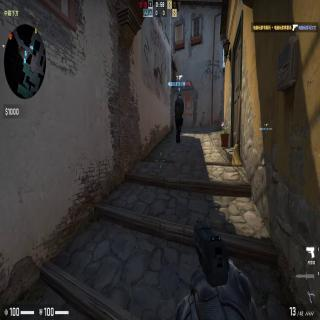CT-Body: (173, 93, 184, 145)
CT-Head: (177, 94, 182, 99)
